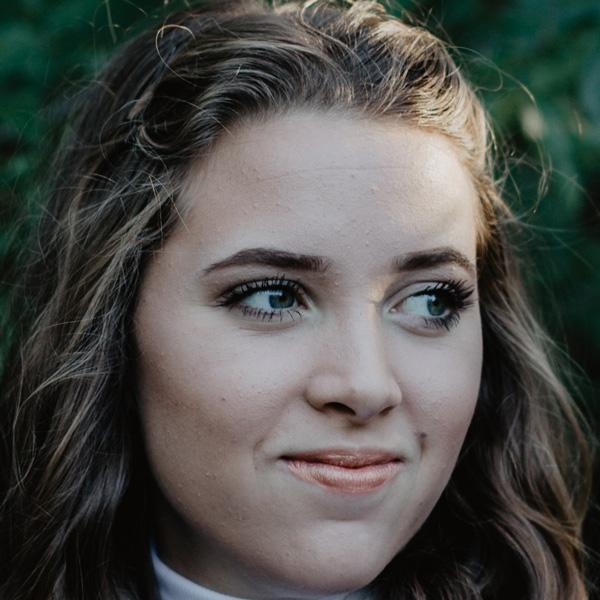Eyes: (212, 269, 325, 333), (379, 270, 477, 338)
